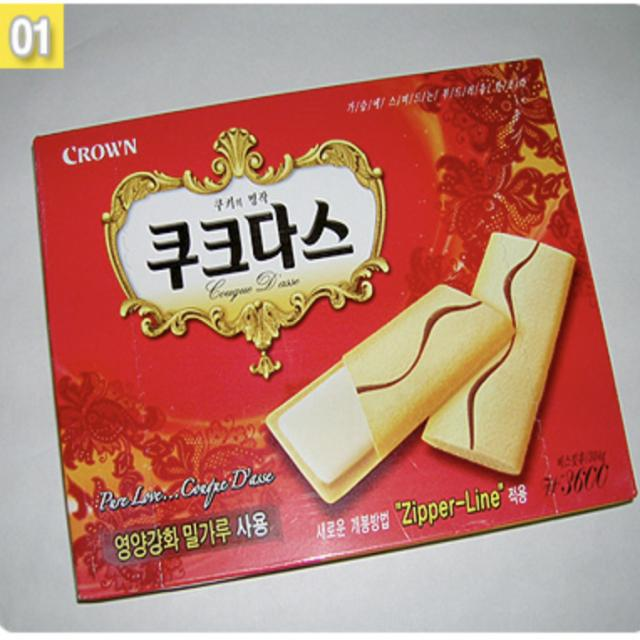biodegradable: (26, 53, 622, 609)
